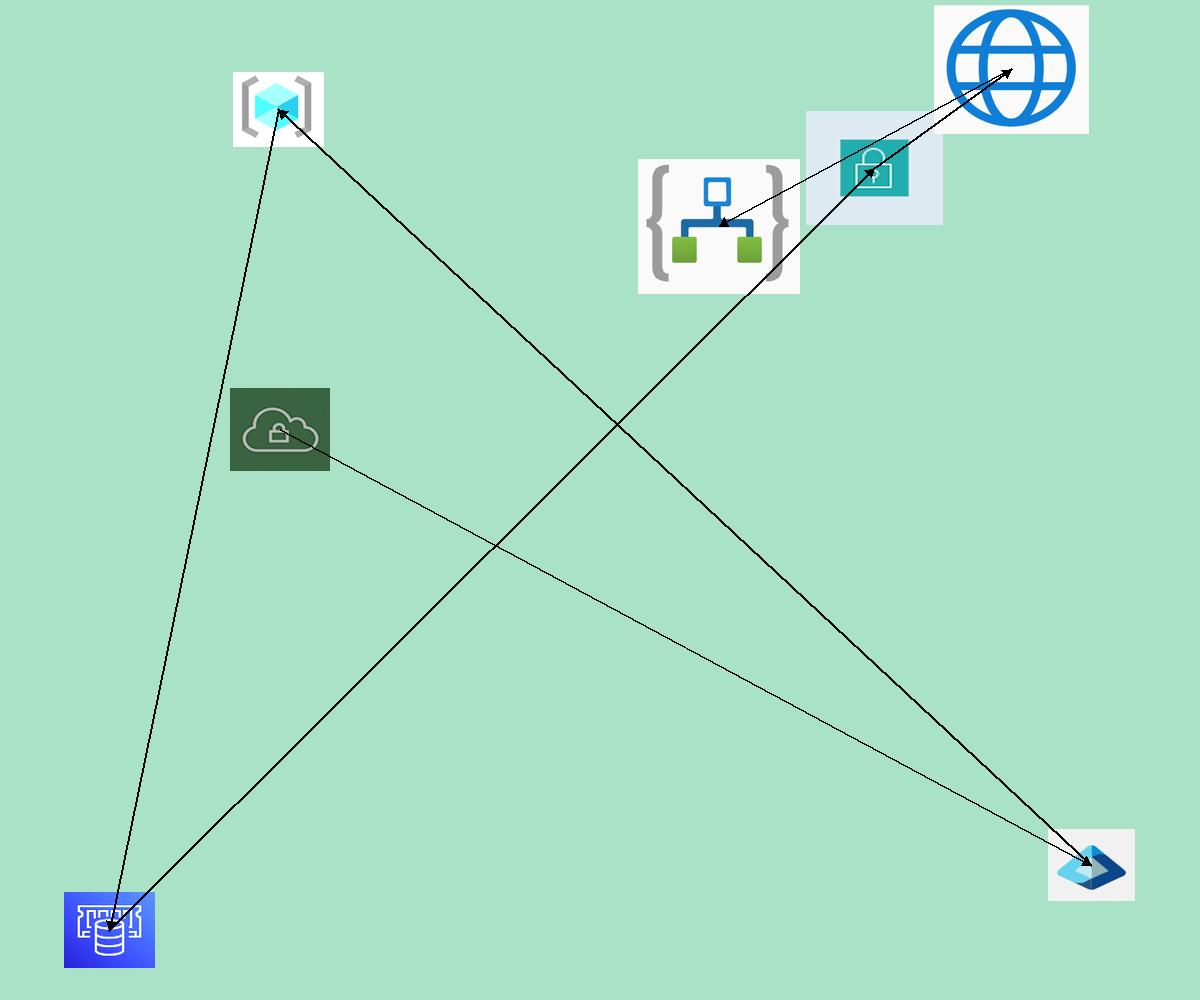AWS-ElastiCache: (64, 892, 155, 968)
AWS-Private-subnet: (806, 111, 943, 225)
AWS-Private_vpc: (230, 388, 330, 471)
Azure_http: (934, 5, 1089, 134)
Azure_integration-204-Logic-Apps: (638, 159, 800, 294)
Azure_microsoft_entra: (1048, 829, 1135, 901)
Azure_resource_group: (233, 72, 324, 147)
